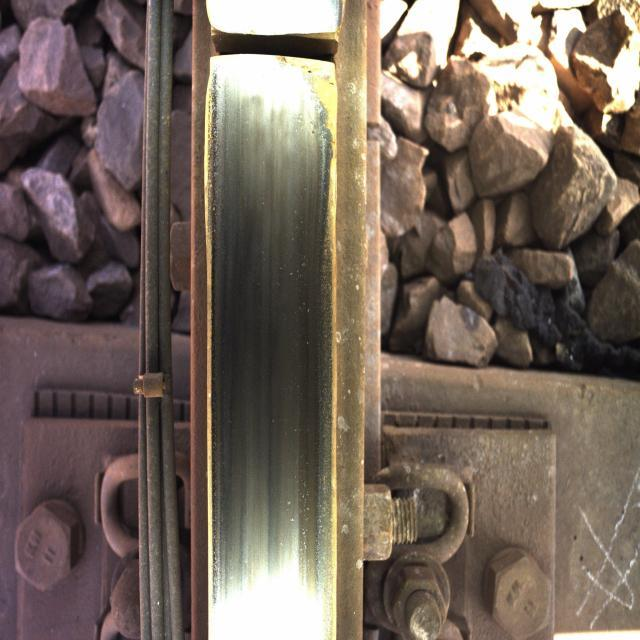spalling: (185, 0, 356, 89)
